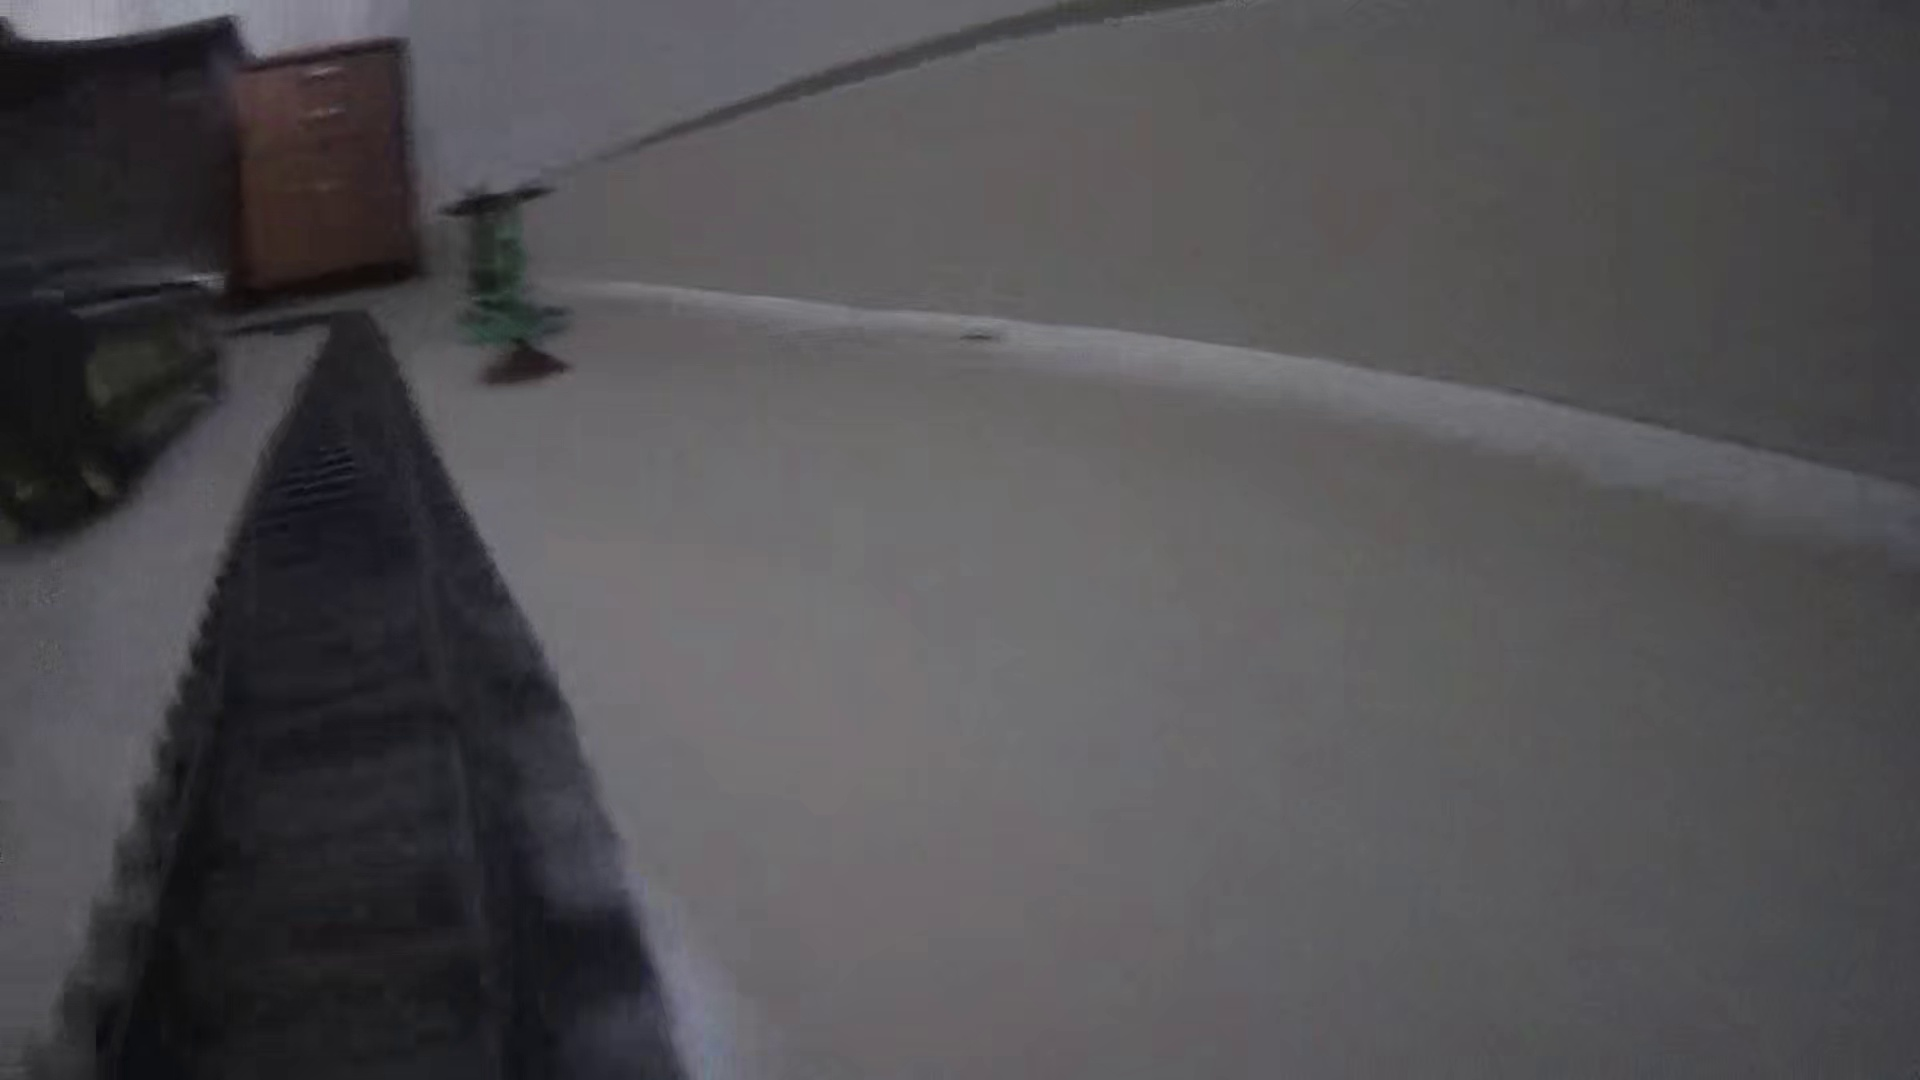tree: (453, 184, 577, 388)
